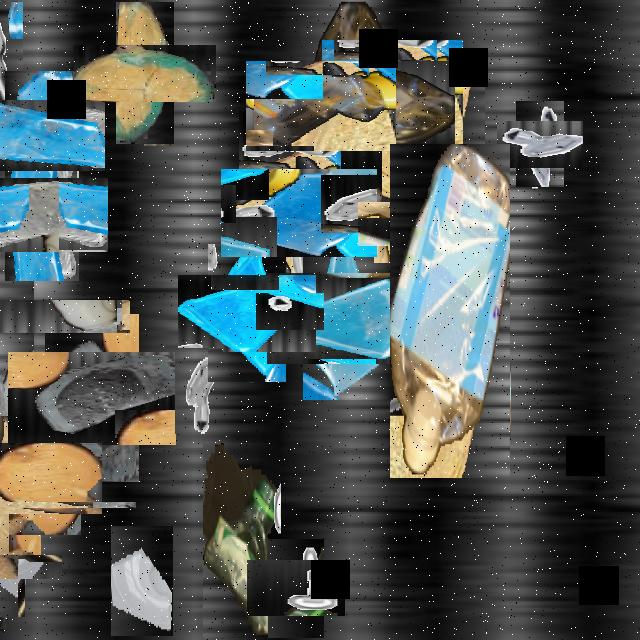glass: (26, 333, 158, 463), (285, 254, 413, 382), (238, 152, 360, 275), (193, 259, 301, 367), (0, 163, 93, 266), (0, 85, 91, 185), (111, 526, 173, 636), (0, 535, 43, 598)
metal: (250, 100, 330, 181), (257, 550, 335, 627), (506, 111, 574, 177), (175, 348, 223, 434), (366, 193, 426, 254), (264, 285, 316, 337), (0, 2, 23, 108)
plastic: (390, 144, 510, 478), (275, 32, 425, 182), (203, 443, 281, 638), (0, 251, 82, 381), (0, 436, 71, 573)
wood: (310, 52, 474, 215), (95, 23, 195, 123), (0, 431, 91, 524), (0, 444, 69, 543)
